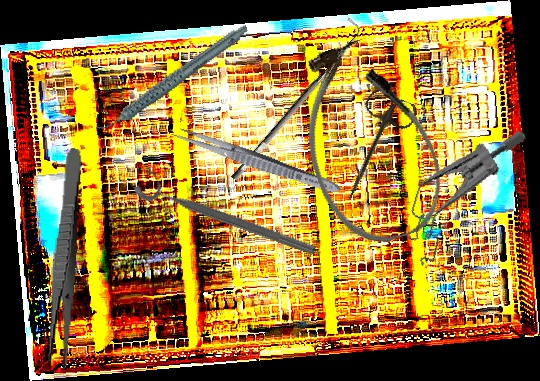Cannula: (279, 28, 457, 257)
Dressing Forceps: (168, 122, 344, 199), (44, 147, 84, 373)
Fixation Ring: (130, 165, 323, 262)
Handpiece: (80, 23, 263, 133)
Hook Surgical: (219, 16, 369, 184)
Iris Scissors: (328, 86, 420, 211)
Speculum: (393, 106, 528, 285)
